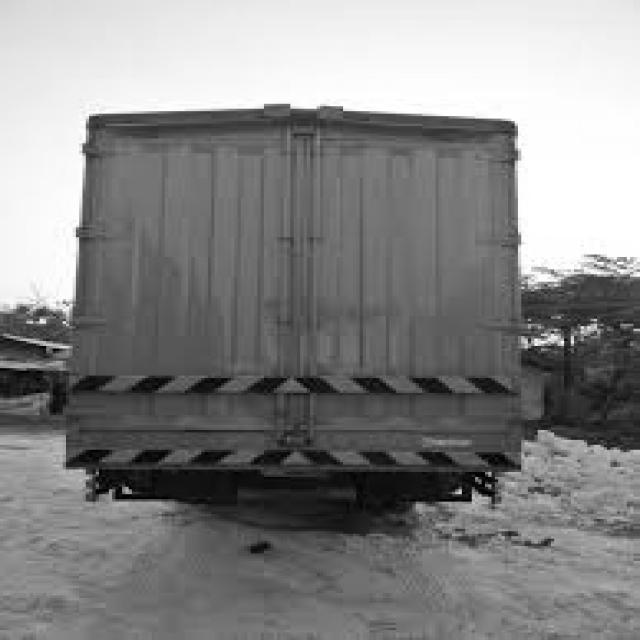truck: (39, 86, 555, 524)
